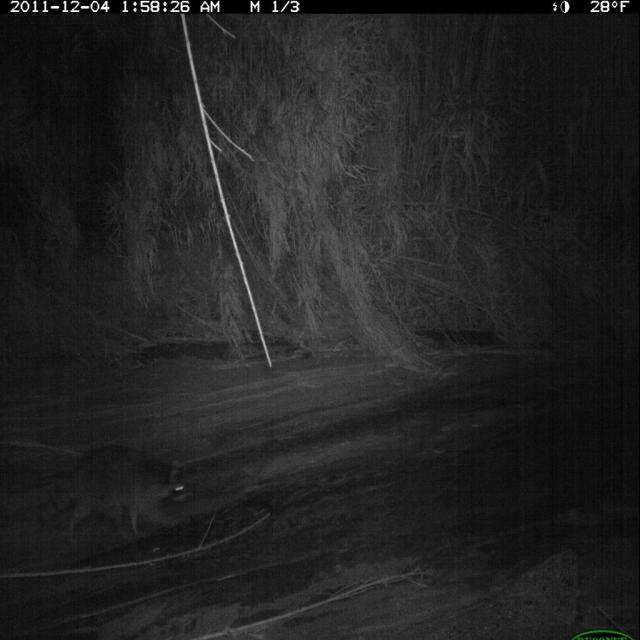raccoon: (34, 441, 202, 563)
